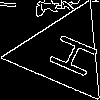H: (38, 27, 100, 80)
